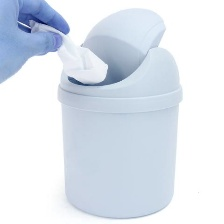plastic_box: (51, 0, 187, 224)
tissue: (21, 14, 113, 88)
